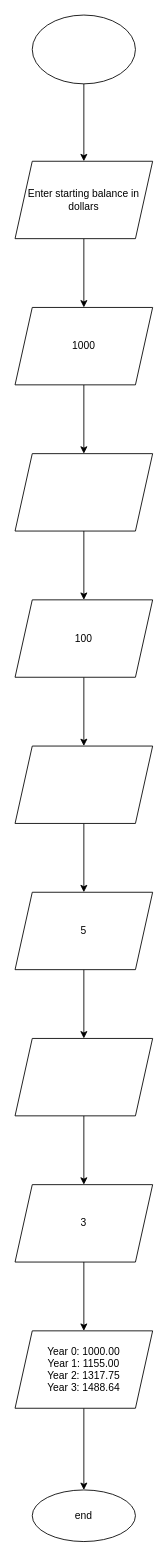
The diagram is 168 pixels wide and 1557 high, and some of its shapes have lost their labels. Here are the shapes that lost their labels. From the top down, the centre of each, then its label:
point 83,49: start
point 83,492: Enter yearly contribution in dollars
point 83,784: Enter Average Return on Investment as %
point 83,1077: Enter Number of years for the report.
